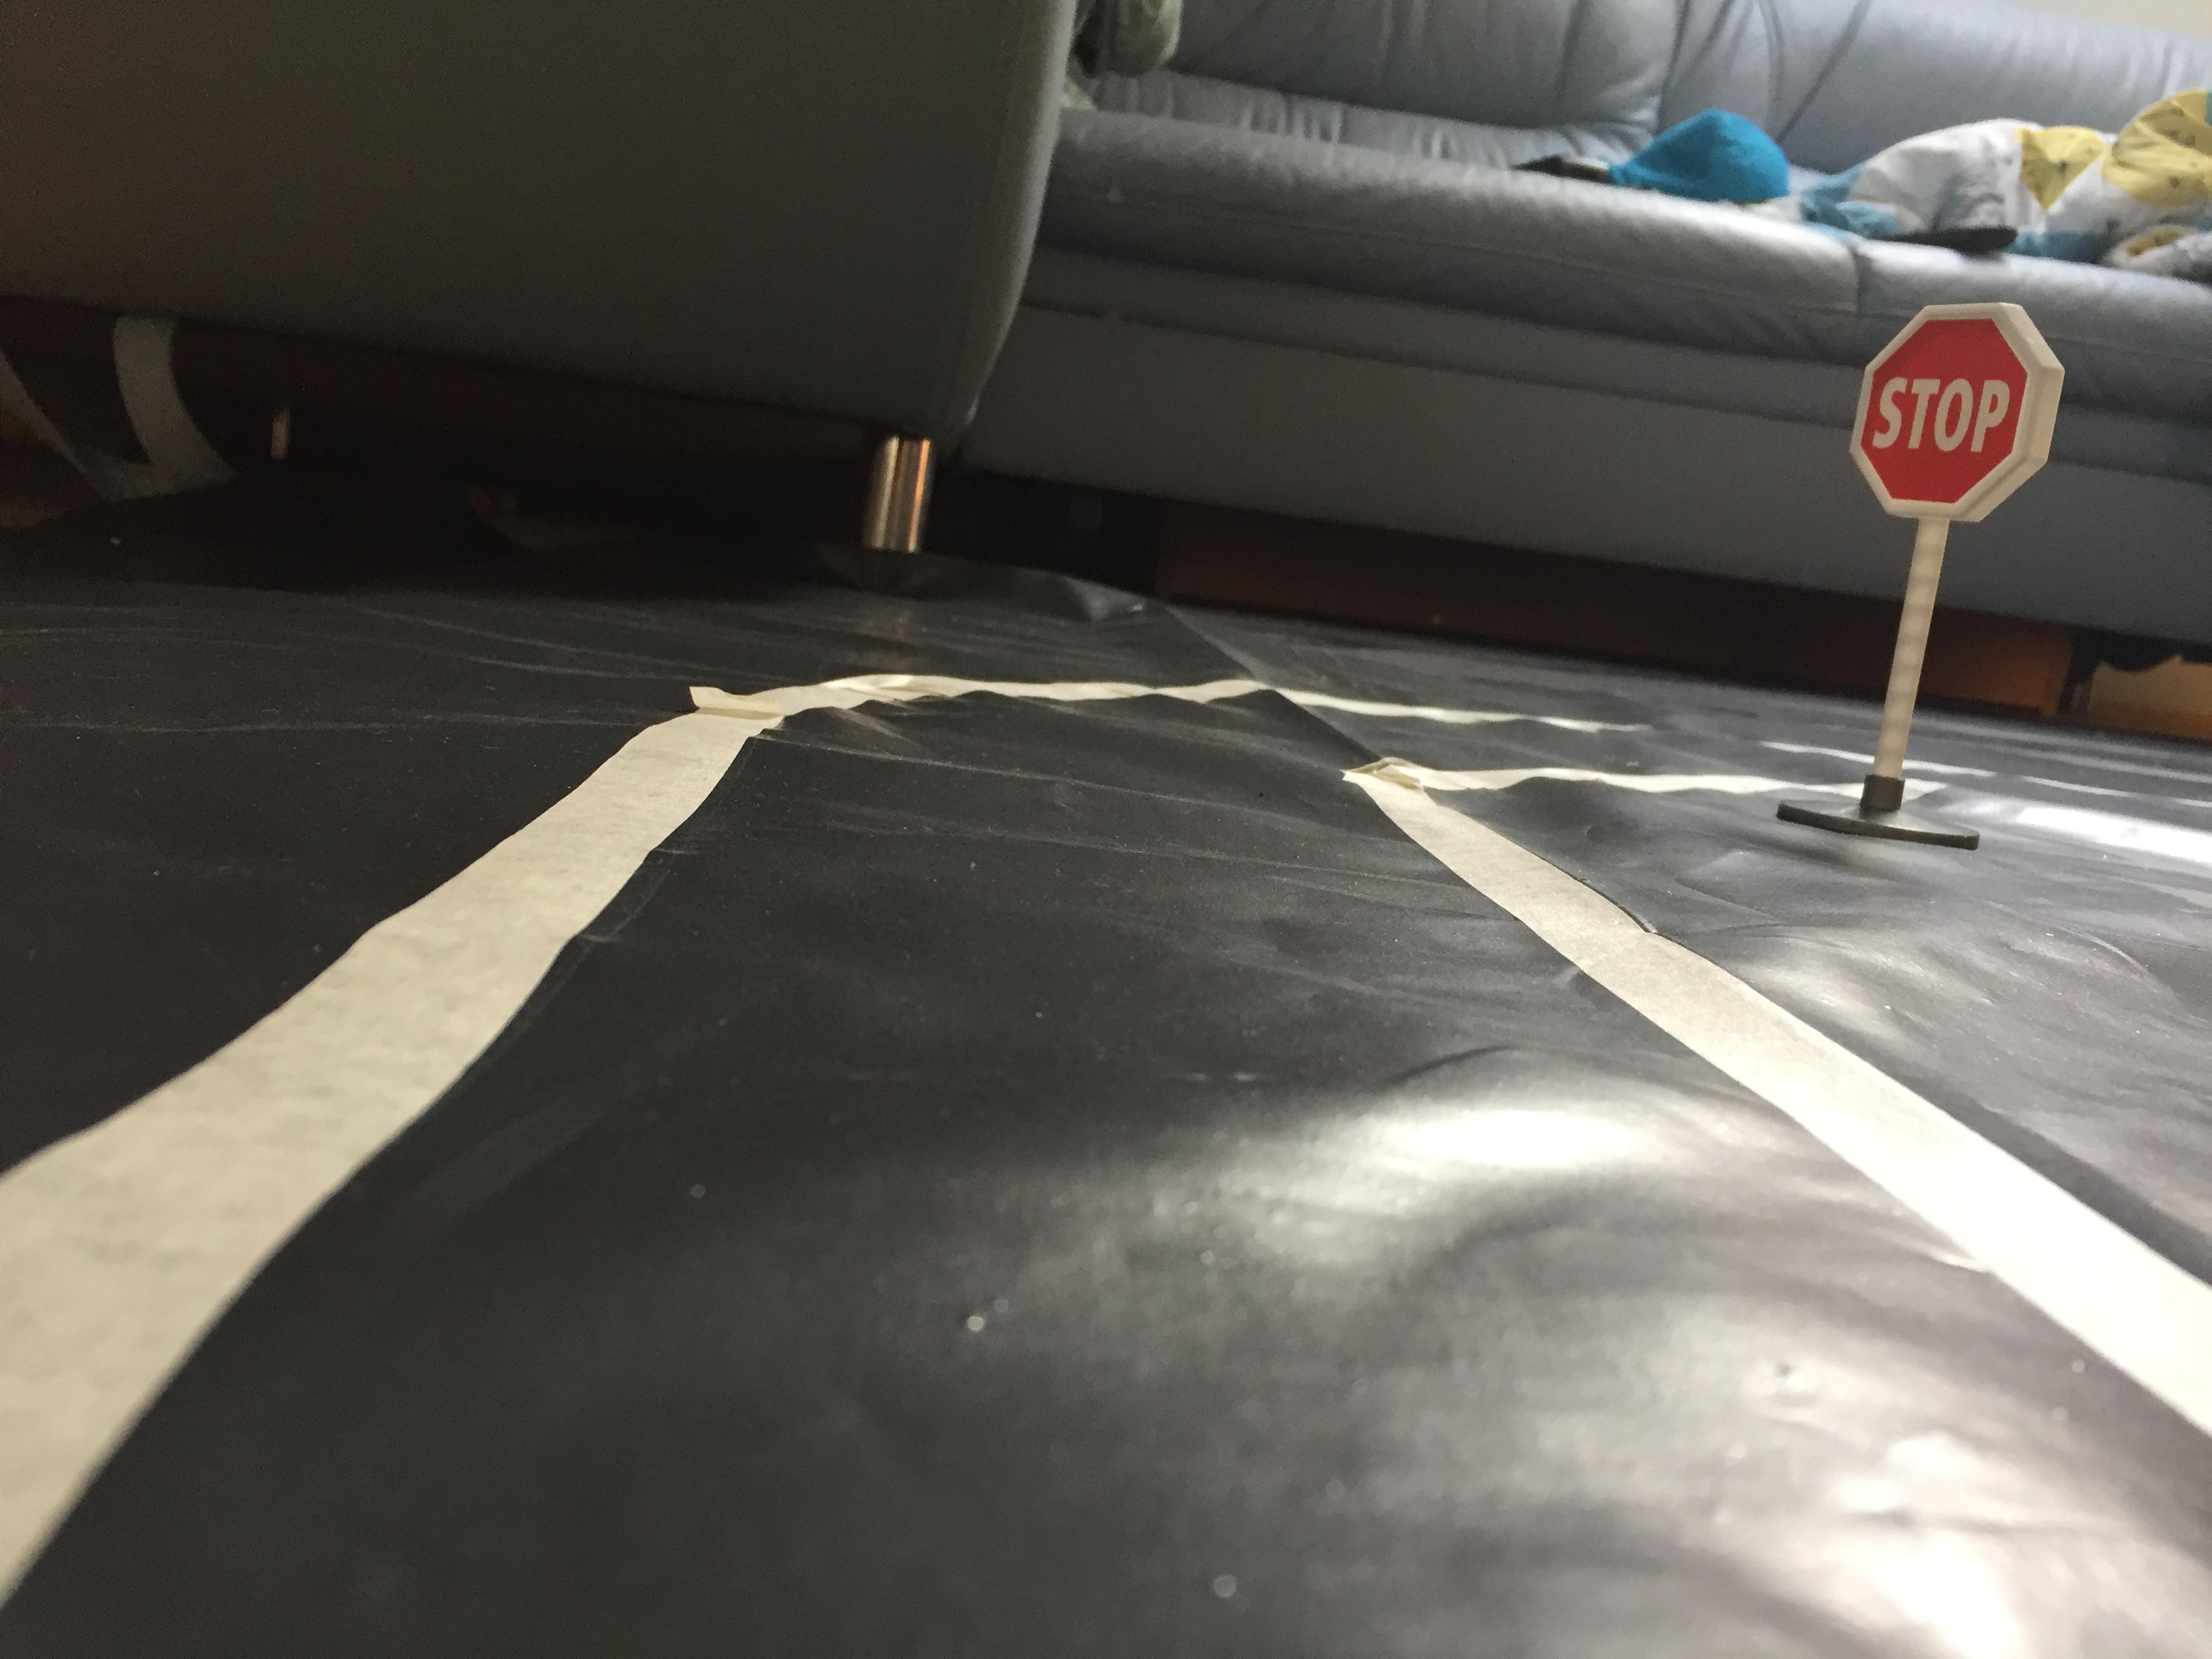stop: (1841, 289, 2074, 537)
